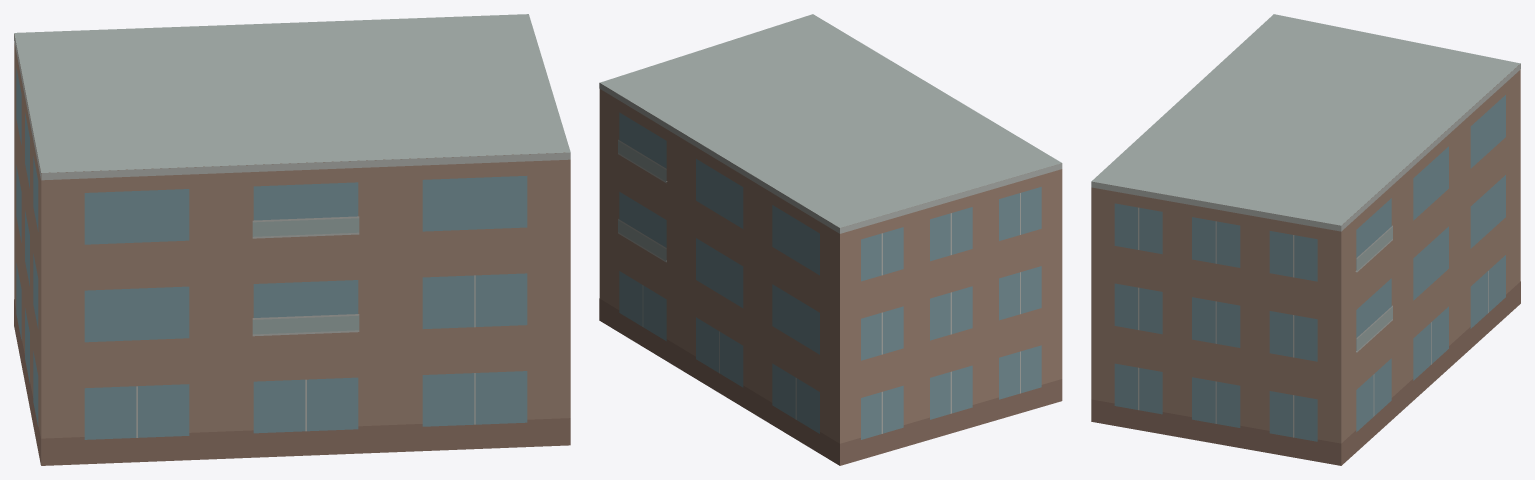
Rendered from survey-upis-33025251.glb.
The picture shows the model from 3 angles, left to right: view 1: azimuth 30°, elevation 25°; view 2: azimuth 150°, elevation 25°; view 3: azimuth 270°, elevation 25°; orthographic projection. The views are drawn at different scales.
Parts seen in each view (by area): view 1: survey-upis-33025251.tmp; view 2: survey-upis-33025251.tmp; view 3: survey-upis-33025251.tmp.
Part boxes in pixels (x1,y1,x2,y2): survey-upis-33025251.tmp: [14, 14, 570, 465]; survey-upis-33025251.tmp: [599, 14, 1062, 465]; survey-upis-33025251.tmp: [1091, 14, 1520, 465].
Bounding box in the file's own units: 18.72 × 9.9 × 16.05.
